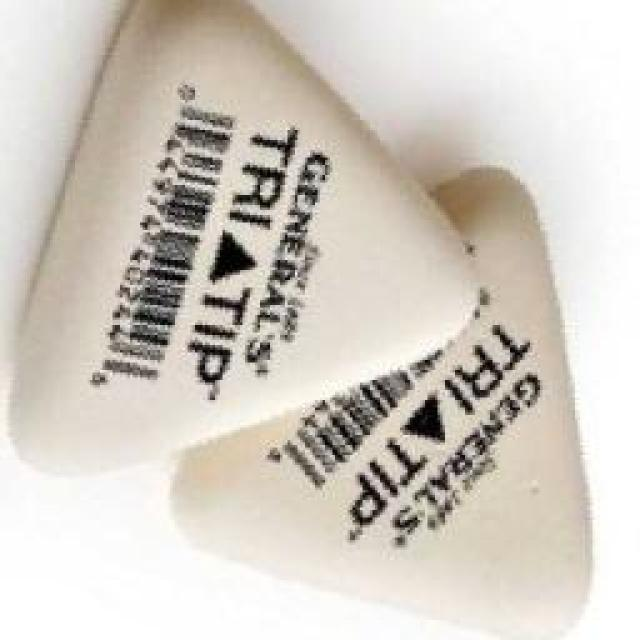Silgi: (0, 3, 479, 479)
